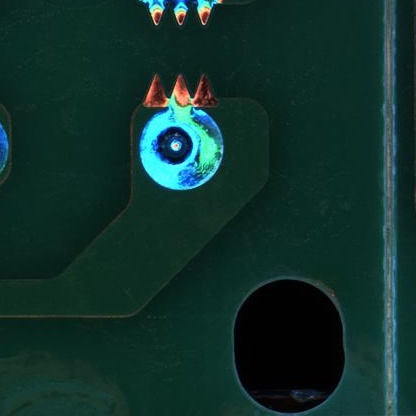spot: (139, 106, 225, 193)
